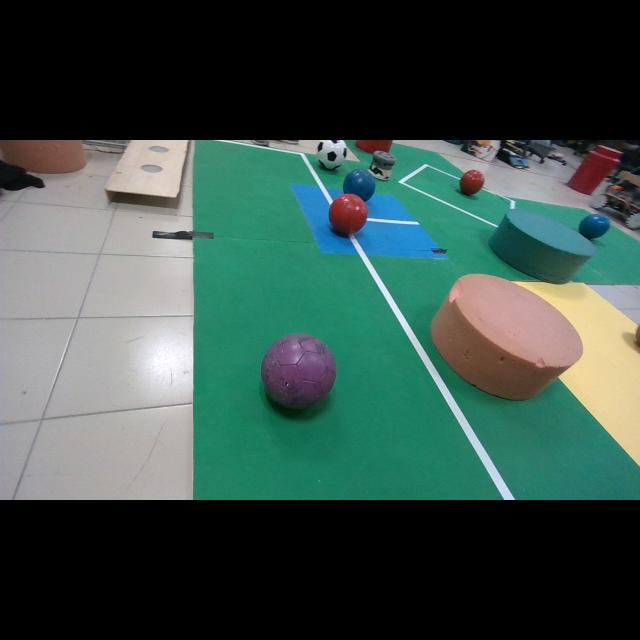B: (344, 169, 375, 201), (579, 214, 610, 239)
P: (262, 335, 336, 409)
R: (329, 194, 368, 234), (460, 170, 485, 195)
